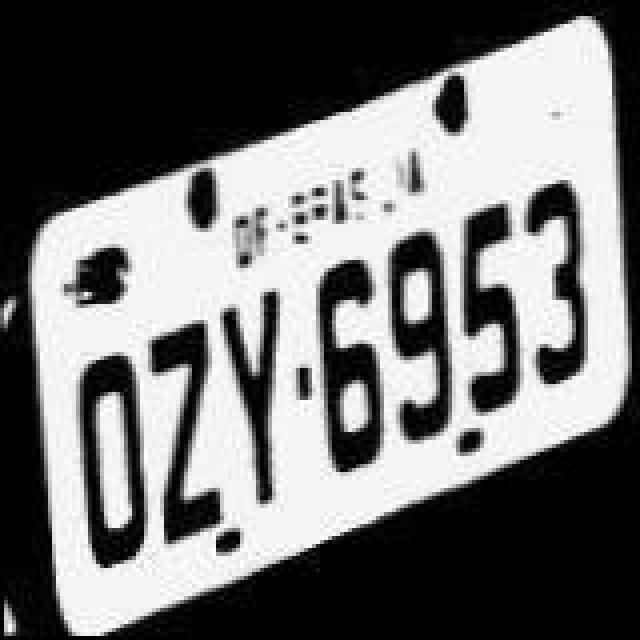3: (522, 162, 602, 422)
5: (448, 188, 532, 456)
6: (304, 254, 388, 498)
9: (392, 218, 460, 474)
O: (72, 336, 152, 576)
Y: (212, 276, 284, 528)
Z: (142, 306, 226, 562)
